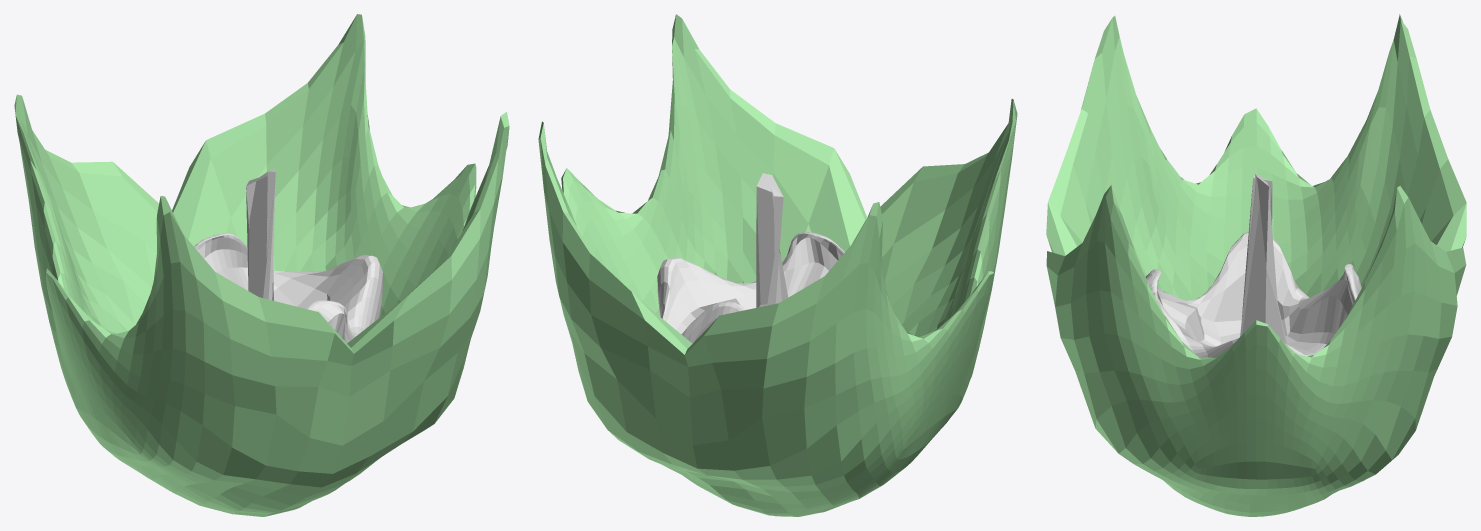
The model's file is eggplant_flower.fbx.
3 renders of one model, left to right at view 1: azimuth 30°, elevation 25°; view 2: azimuth 150°, elevation 25°; view 3: azimuth 270°, elevation 25°, orthographic. The views are drawn at different scales.
Visible parts, largest first — view 1: petals, inner; view 2: petals, inner; view 3: petals, inner.
Part boxes in pixels (x1,y1,x2,y2): petals: (14, 14, 509, 516); inner: (194, 168, 382, 343); petals: (538, 14, 1017, 516); inner: (657, 173, 844, 343); petals: (1046, 14, 1466, 516); inner: (1145, 173, 1361, 357).
Size of the model in its own units: 535 by 480 by 445.
